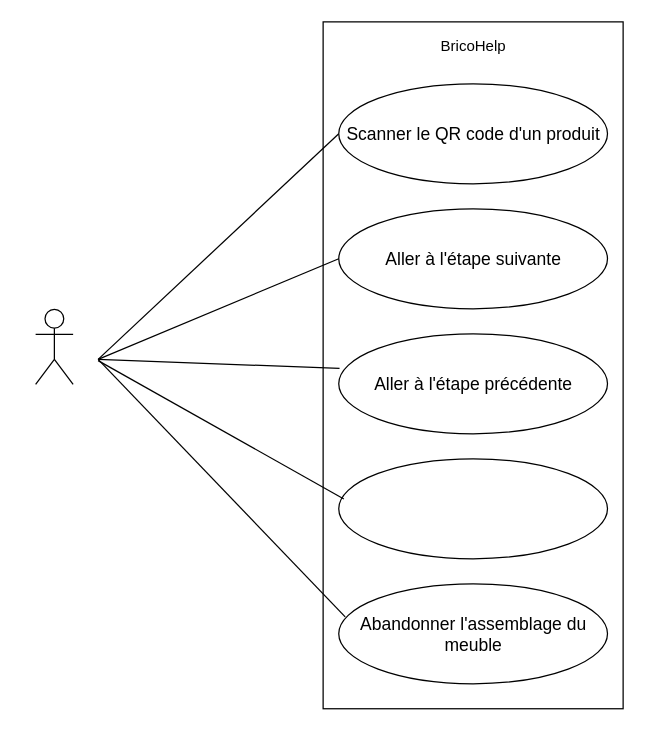
This 645x731 diagram has some shape labels left out. The box of each missing label's shape, as (x1, y1, x2, y2) in pixels:
Consulter la liste des outils nécessaires à l'assemblage du produit: (338, 458, 608, 559)
Utilisateur: (34, 308, 73, 384)
